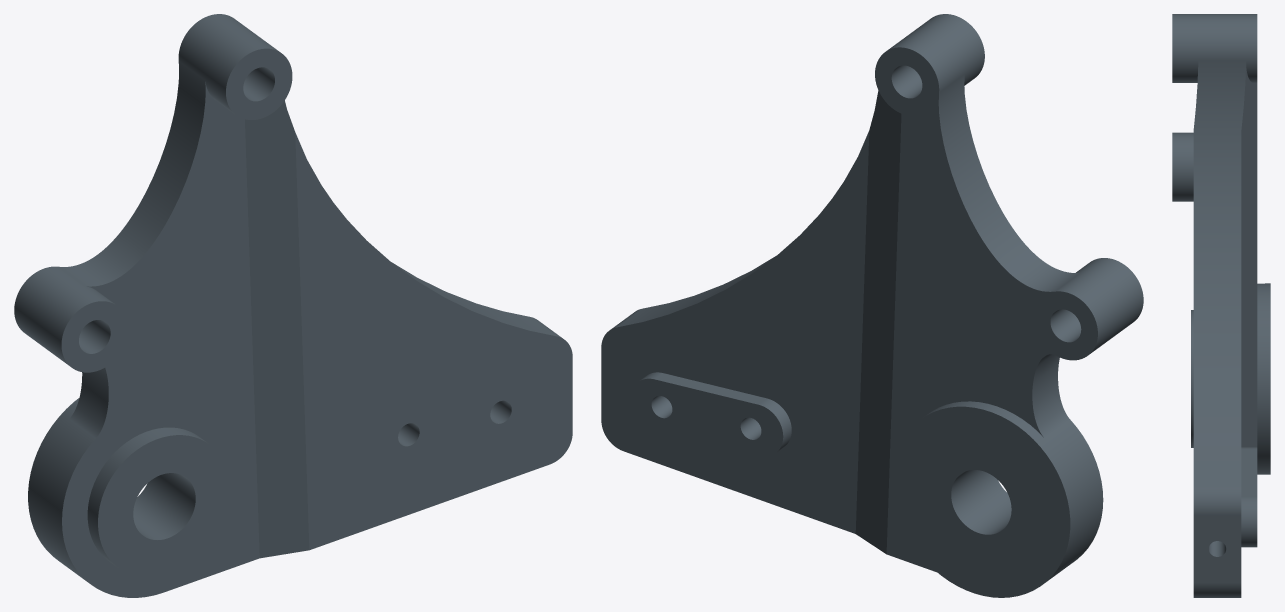
Rendered from dropout_left.glb.
3 renders of one model, left to right at view 1: azimuth 30°, elevation 25°; view 2: azimuth 150°, elevation 25°; view 3: azimuth 270°, elevation 25°, orthographic. The views are drawn at different scales.
Parts seen in each view (by area): view 1: dropout_left; view 2: dropout_left; view 3: dropout_left.
Part boxes in pixels (<box>): dropout_left: <box>14,14,572,597</box>; dropout_left: <box>601,14,1143,597</box>; dropout_left: <box>1172,14,1270,597</box>.
Bounding box in the file's own units: 102 × 101 × 18.5.
